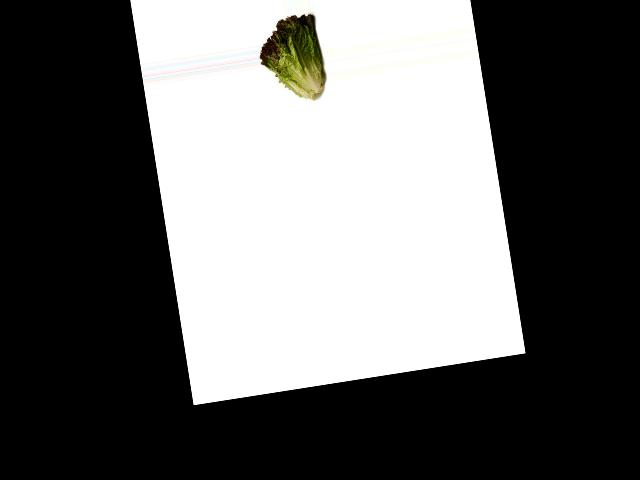lettuce: (255, 10, 327, 105)
